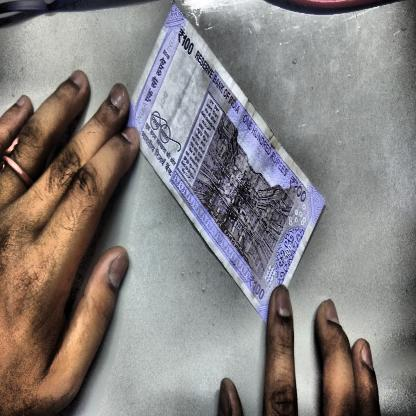Rs100: (244, 268, 268, 306), (173, 24, 196, 60)
